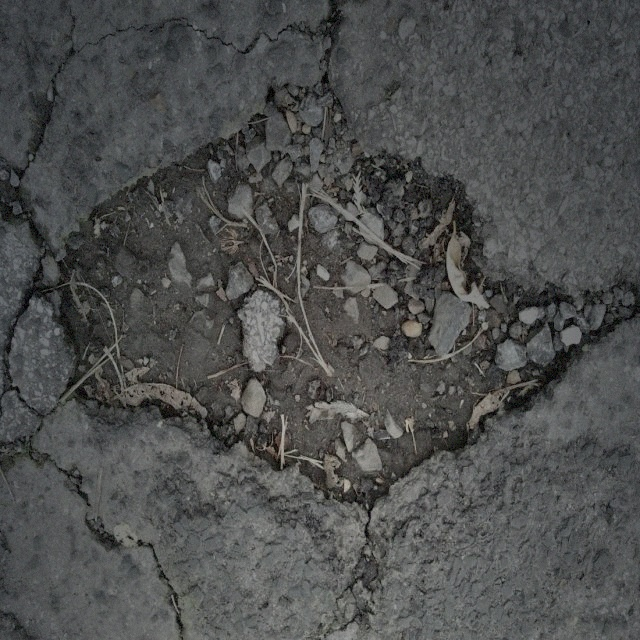pothole: (41, 72, 578, 510)
